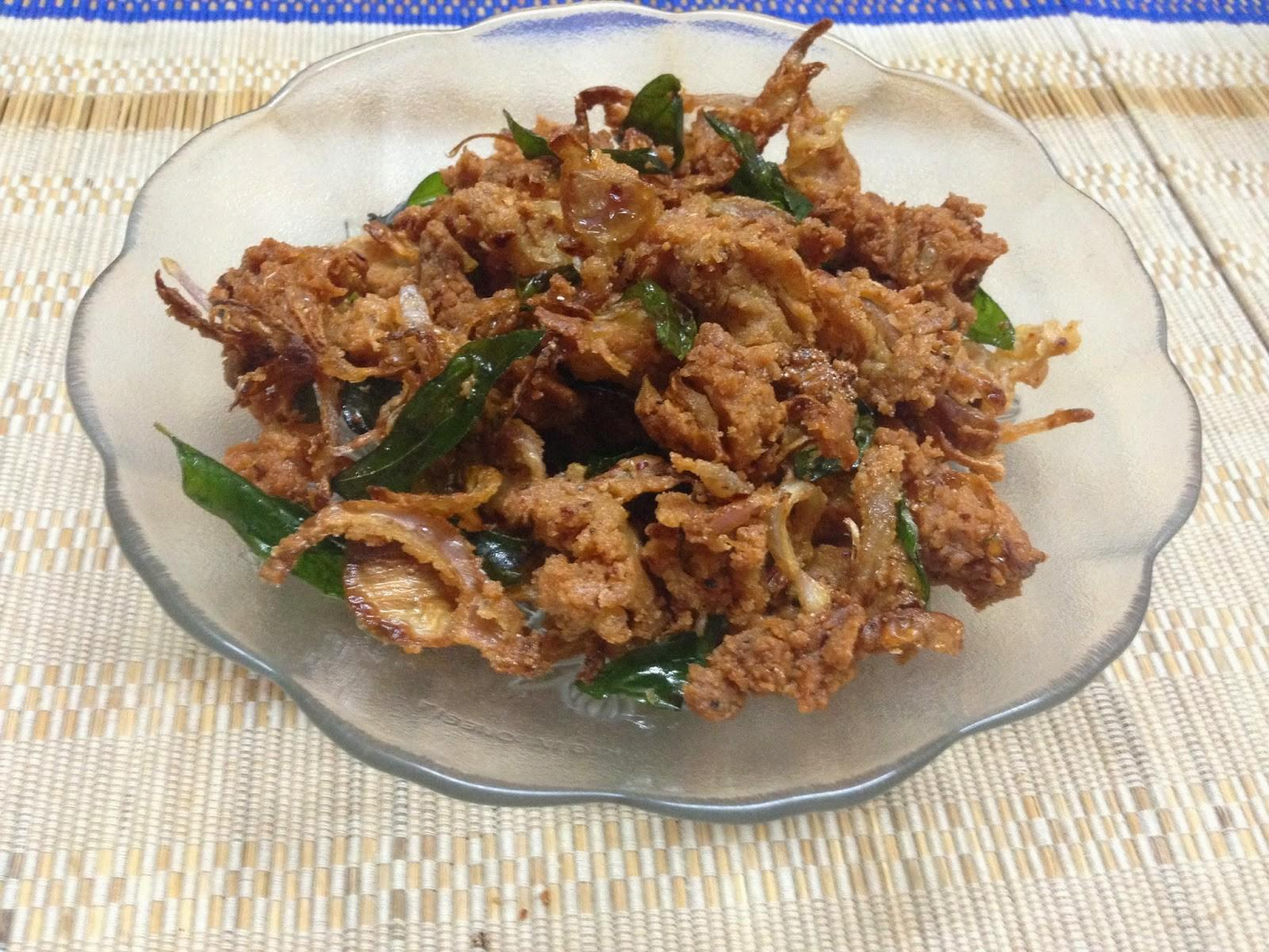OnionPakoda: (162, 20, 1087, 721)
